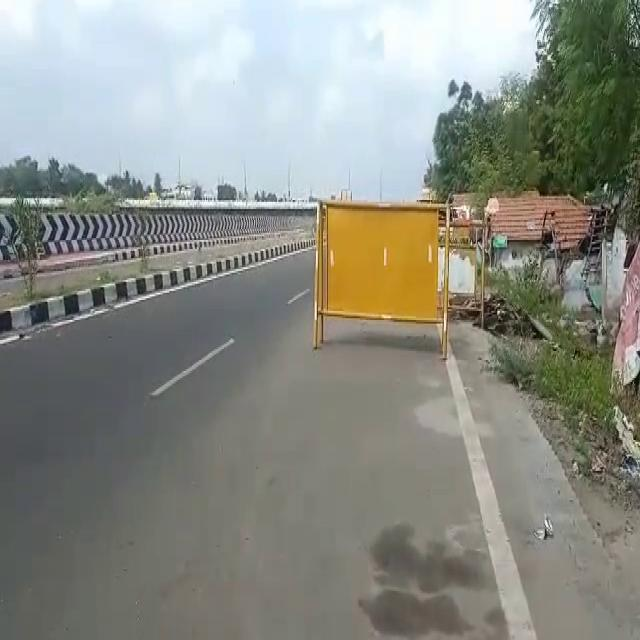fallen_object: (276, 155, 472, 377)
